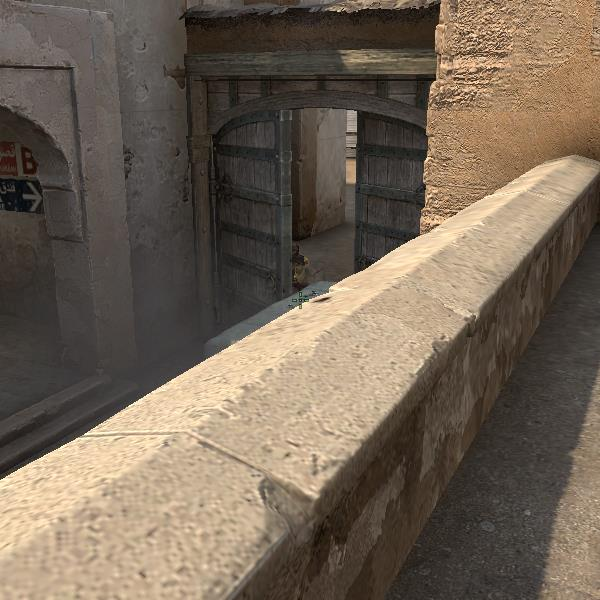t_body: (289, 254, 322, 287)
t_head: (290, 254, 309, 273)
